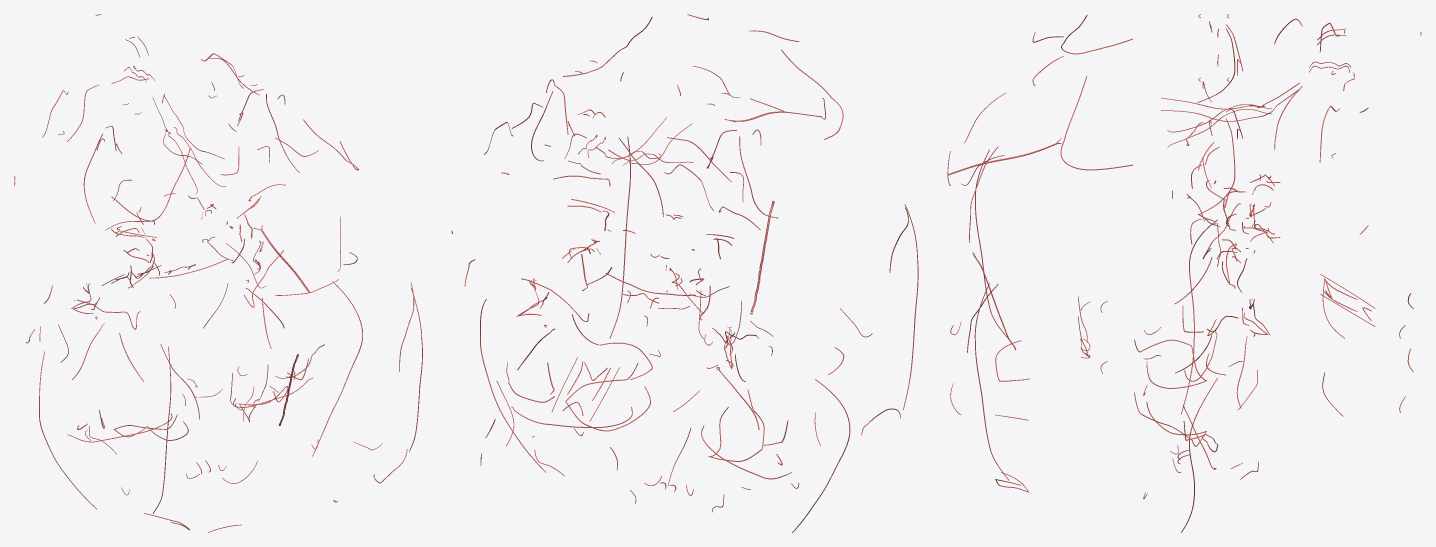
3 views of the same model, side by side, from view 1: azimuth 30°, elevation 25°; view 2: azimuth 150°, elevation 25°; view 3: azimuth 270°, elevation 25° (orthographic). The views are drawn at different scales.
Size of the model in its own units: 150 by 172 by 167.
